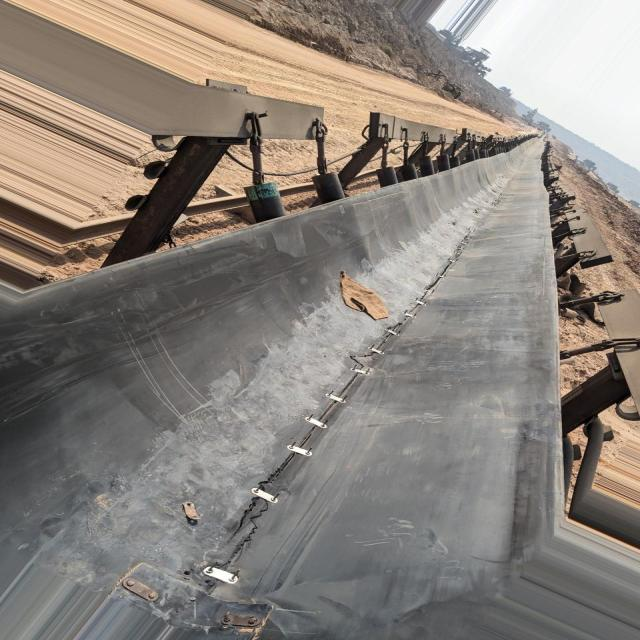Other Objects: (339, 271, 390, 321)
Roller: (377, 148, 489, 187), (244, 183, 288, 224), (312, 172, 346, 204)
patch work: (180, 231, 474, 596), (115, 561, 272, 634)
